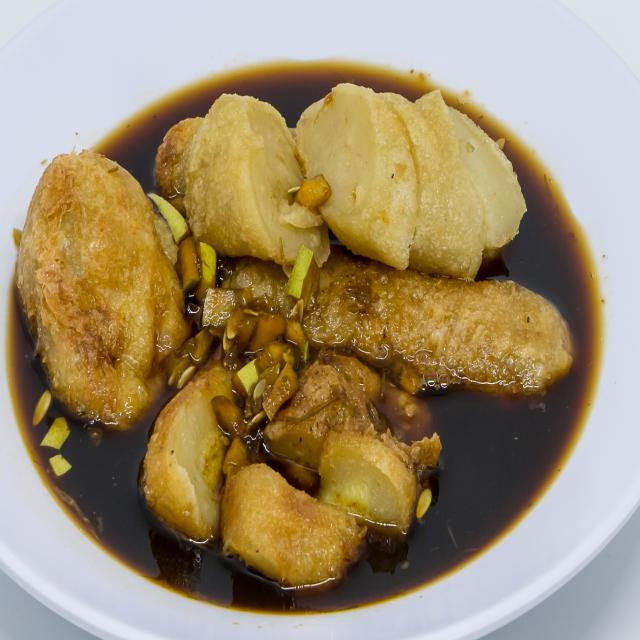Pempek-Palembang: (13, 69, 586, 598)
